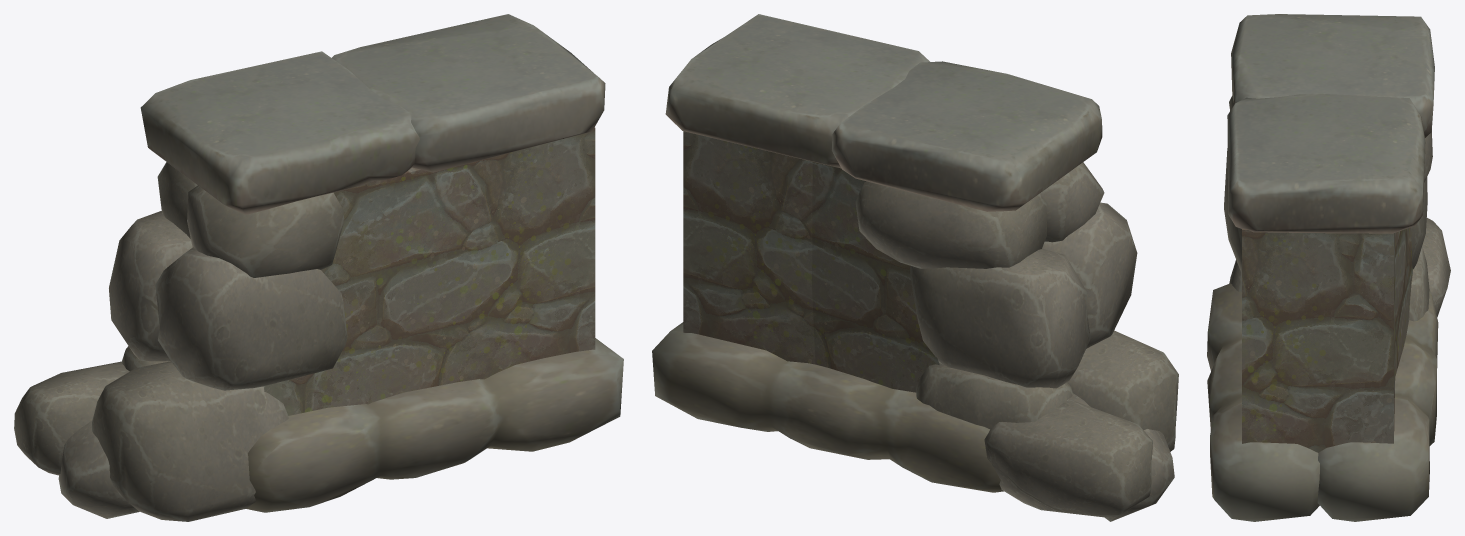
File: SM_FW01_Ruins_Int_Trim_C_2m_Brkn_03.fbx
3 views of the same model, side by side, from view 1: azimuth 30°, elevation 25°; view 2: azimuth 150°, elevation 25°; view 3: azimuth 270°, elevation 25° (orthographic). The views are drawn at different scales.
Parts seen in each view (by area): view 1: SM_FW01_Ruins_Int_Trim_C_2m_Brkn_03_LOD0, SM_FW01_Ruins_Int_Trim_C_2m_Brkn_03; view 2: SM_FW01_Ruins_Int_Trim_C_2m_Brkn_03_LOD0, SM_FW01_Ruins_Int_Trim_C_2m_Brkn_03; view 3: SM_FW01_Ruins_Int_Trim_C_2m_Brkn_03_LOD0, SM_FW01_Ruins_Int_Trim_C_2m_Brkn_03.
Part boxes in pixels (x1=…): SM_FW01_Ruins_Int_Trim_C_2m_Brkn_03_LOD0: x1=14, y1=14, x2=623, y2=521; SM_FW01_Ruins_Int_Trim_C_2m_Brkn_03: x1=263, y1=127, x2=595, y2=415; SM_FW01_Ruins_Int_Trim_C_2m_Brkn_03_LOD0: x1=652, y1=14, x2=1178, y2=521; SM_FW01_Ruins_Int_Trim_C_2m_Brkn_03: x1=683, y1=131, x2=939, y2=392; SM_FW01_Ruins_Int_Trim_C_2m_Brkn_03_LOD0: x1=1207, y1=14, x2=1450, y2=521; SM_FW01_Ruins_Int_Trim_C_2m_Brkn_03: x1=1242, y1=227, x2=1412, y2=452.
Size of what is drawn, in the model's own units: 1.86 by 1.31 by 0.8024.
